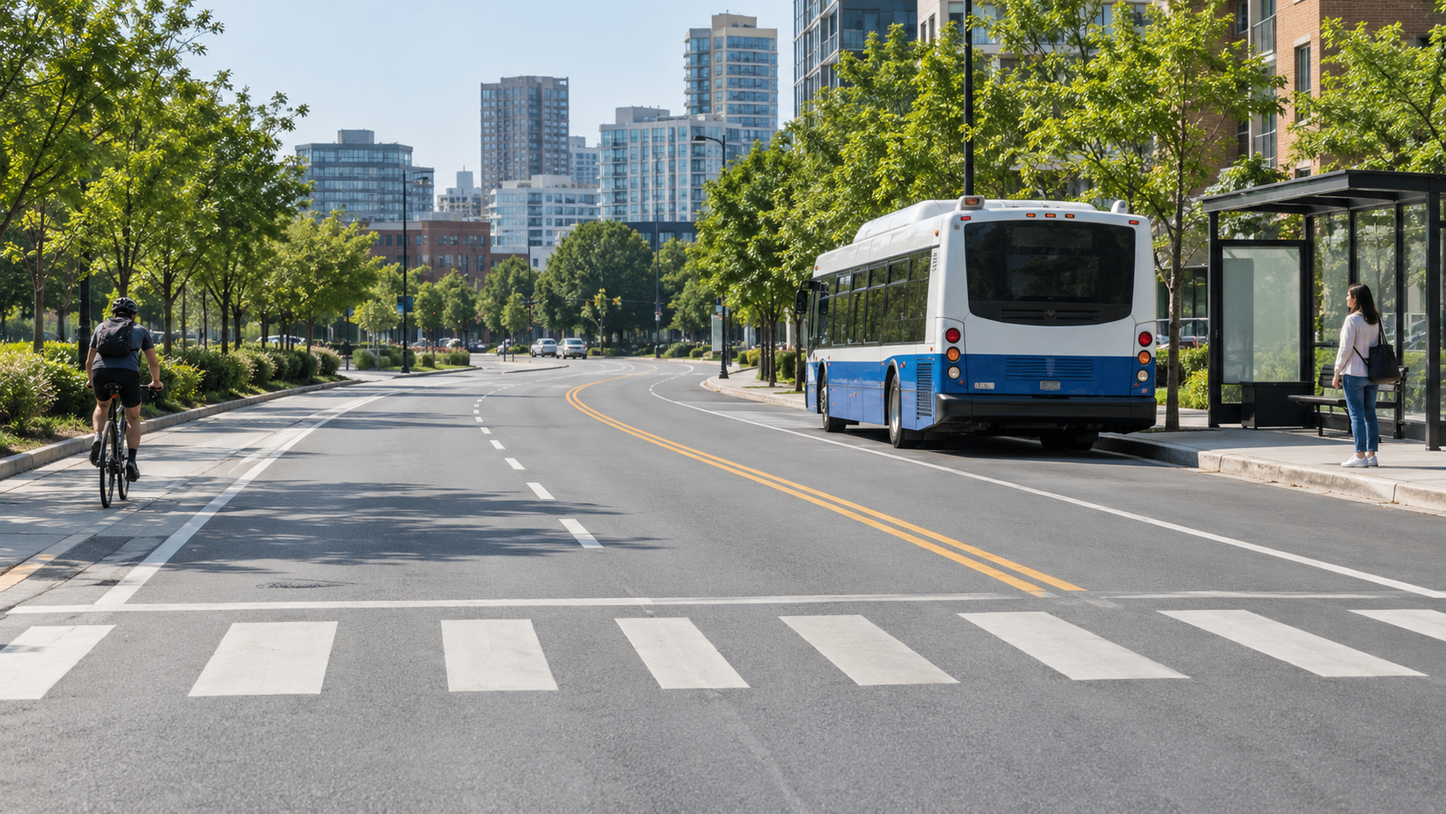bicycle: (86, 341, 159, 507)
person: (93, 298, 136, 497), (1337, 311, 1380, 467)
truck: (797, 196, 1158, 443)
